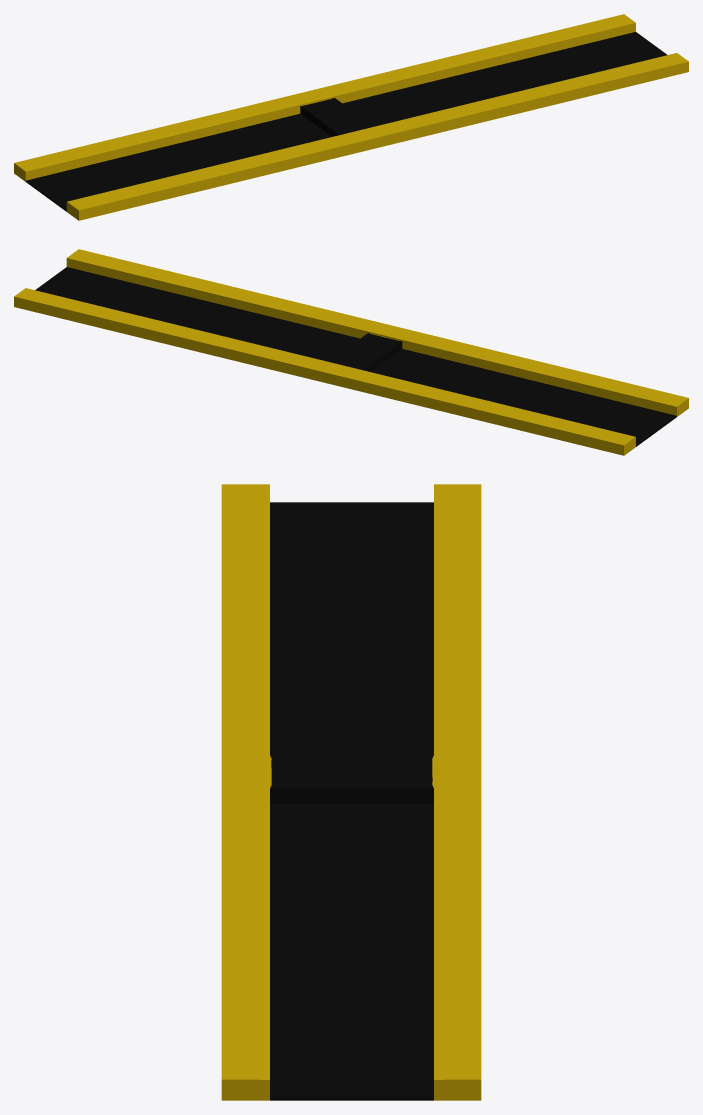
Rendered from Banqueta.obj.
3 views of the same model, one above another, from view 1: azimuth 30°, elevation 25°; view 2: azimuth 150°, elevation 25°; view 3: azimuth 270°, elevation 25° (orthographic). The views are drawn at different scales.
Parts seen in each view (by area): view 1: Cube; view 2: Cube; view 3: Cube.
Boxes of the visible parts, left/top/right/bottom form: Cube: left=14, top=14, right=688, bottom=220; Cube: left=14, top=249, right=688, bottom=455; Cube: left=221, top=484, right=481, bottom=1100.
Bounding box in the file's own units: 327 × 5.33 × 60.14.
